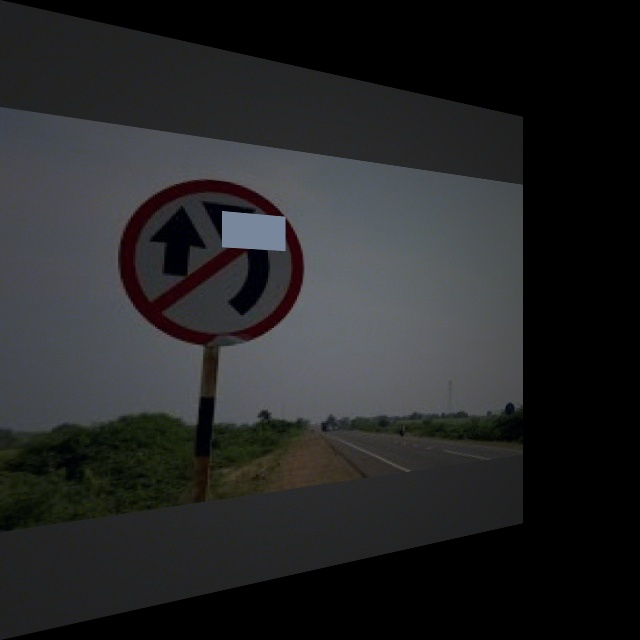Overtaking_Prohibited: (130, 172, 298, 342)
